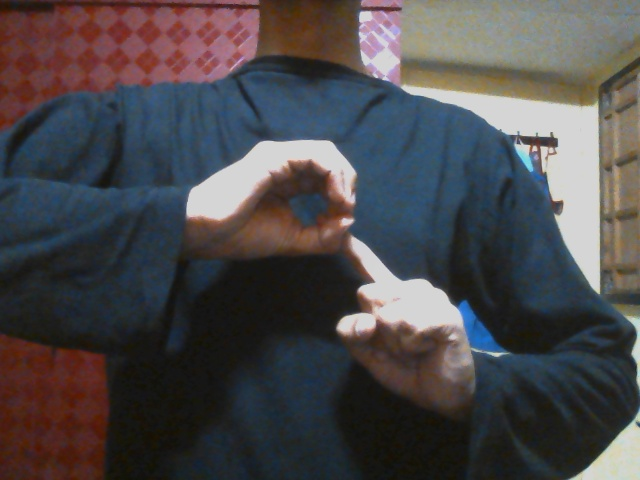Q: (196, 135, 468, 427)
